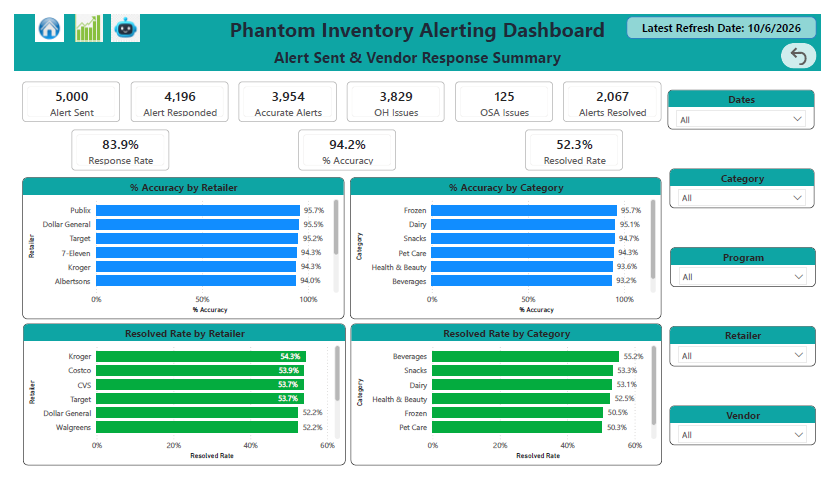

The page's visual inventory and layout, read from the dashboard file:
{"tool":"powerbi","page":{"name":"Alert Details","canvas":[1280,720],"ordinal":0},"visuals":[{"type":"shape","box":[0,0,1280,43.6],"z":0},{"type":"shape","box":[0,45.1,1280,43.6],"z":1000},{"type":"slicer","title":"Dates","fields":{"Values":["dim_calendar.Financial_Year","dim_calendar.Month_Name","dim_calendar.Date"]},"box":[1036.8,119.5,233.3,63.4],"z":2000},{"type":"actionButton","box":[1216.8,46.1,56.2,40.3],"z":3000},{"type":"image","box":[27.4,0,57.8,44],"z":4000},{"type":"image","box":[91.2,0,54.7,44.1],"z":5000},{"type":"slicer","title":"Category","fields":{"Values":["dim_category.Category_Name"]},"box":[1039.7,244.8,230.4,63.4],"z":6000},{"type":"slicer","title":"Program","fields":{"Values":["dim_program.Program_Type","dim_program.Program_Name"]},"box":[1041.1,370.1,230.4,63.4],"z":7000},{"type":"slicer","title":"Retailer","fields":{"Values":["dim_retailer.Retailer_Name"]},"box":[1039.7,495.4,231.8,63.4],"z":8000},{"type":"slicer","title":"Vendor","fields":{"Values":["dim_vendor.Vendor_Region","dim_vendor.Vendor_Name"]},"box":[1039.7,620.6,231.8,63.4],"z":9000},{"type":"cardVisual","fields":{"Data":["Measure.Alert Sent"]},"box":[13,106.6,155.5,64.8],"z":10000},{"type":"cardVisual","fields":{"Data":["Measure.Response Received"]},"box":[184.6,106.6,155.5,64.8],"z":11000},{"type":"cardVisual","fields":{"Data":["Measure.Accurate Alerts"]},"box":[356.3,106.6,155.5,64.8],"z":12000},{"type":"cardVisual","fields":{"Data":["Measure.OH Issues"]},"box":[527.9,106.6,155.5,64.8],"z":13000},{"type":"cardVisual","fields":{"Data":["Measure.OSA Issues"]},"box":[699.6,106.6,155.5,64.8],"z":14000},{"type":"cardVisual","fields":{"Data":["Measure.Alerts Resolved"]},"box":[871.2,106.6,155.5,64.8],"z":15000},{"type":"cardVisual","fields":{"Data":["Measure.Response Rate"]},"box":[90.7,182.9,155.5,64.8],"z":16000},{"type":"cardVisual","fields":{"Data":["Measure.% Accuracy"]},"box":[450.7,182.9,155.5,64.8],"z":17000},{"type":"cardVisual","fields":{"Data":["Measure.Resolved Rate"]},"box":[810.7,182.9,155.5,64.8],"z":18000},{"type":"clusteredBarChart","fields":{"Y":["Measure.% Accuracy"],"Category":["dim_retailer.Retailer_Name"]},"box":[13,259.2,511.2,224.6],"z":19000},{"type":"clusteredBarChart","fields":{"Y":["Measure.% Accuracy"],"Category":["dim_category.Category_Name"]},"box":[532.8,259.2,493.9,224.6],"z":20000},{"type":"clusteredBarChart","fields":{"Category":["dim_retailer.Retailer_Name"],"Y":["Measure.Resolved Rate"]},"box":[14.4,491,511.2,224.6],"z":21000},{"type":"clusteredBarChart","fields":{"Category":["dim_category.Category_Name"],"Y":["Measure.Resolved Rate"]},"box":[534.2,491,493.9,224.6],"z":22000},{"type":"shape","box":[972,4.3,301,34.6],"z":23000},{"type":"image","box":[149.8,0,53.3,44],"z":23001}]}

Visuals, with their boxes in screenshot pixels (x1, y1, x2, y2), scaled from the page's 1280x720 canvas onto the 832x482 screenshot:
shape: bbox=[0, 0, 831, 29]
shape: bbox=[0, 30, 831, 59]
"Dates" slicer: bbox=[674, 80, 826, 122]
actionButton: bbox=[791, 31, 827, 58]
image: bbox=[18, 0, 55, 29]
image: bbox=[59, 0, 95, 30]
"Category" slicer: bbox=[676, 164, 826, 206]
"Program" slicer: bbox=[677, 248, 826, 290]
"Retailer" slicer: bbox=[676, 332, 826, 374]
"Vendor" slicer: bbox=[676, 415, 826, 458]
cardVisual - Measure.Alert Sent: bbox=[8, 71, 110, 115]
cardVisual - Measure.Response Received: bbox=[120, 71, 221, 115]
cardVisual - Measure.Accurate Alerts: bbox=[232, 71, 333, 115]
cardVisual - Measure.OH Issues: bbox=[343, 71, 444, 115]
cardVisual - Measure.OSA Issues: bbox=[455, 71, 556, 115]
cardVisual - Measure.Alerts Resolved: bbox=[566, 71, 667, 115]
cardVisual - Measure.Response Rate: bbox=[59, 122, 160, 166]
cardVisual - Measure.% Accuracy: bbox=[293, 122, 394, 166]
cardVisual - Measure.Resolved Rate: bbox=[527, 122, 628, 166]
clusteredBarChart - Measure.% Accuracy x dim_retailer.Retailer_Name: bbox=[8, 174, 341, 324]
clusteredBarChart - Measure.% Accuracy x dim_category.Category_Name: bbox=[346, 174, 667, 324]
clusteredBarChart - dim_retailer.Retailer_Name x Measure.Resolved Rate: bbox=[9, 329, 342, 479]
clusteredBarChart - dim_category.Category_Name x Measure.Resolved Rate: bbox=[347, 329, 668, 479]
shape: bbox=[632, 3, 827, 26]
image: bbox=[97, 0, 132, 29]
